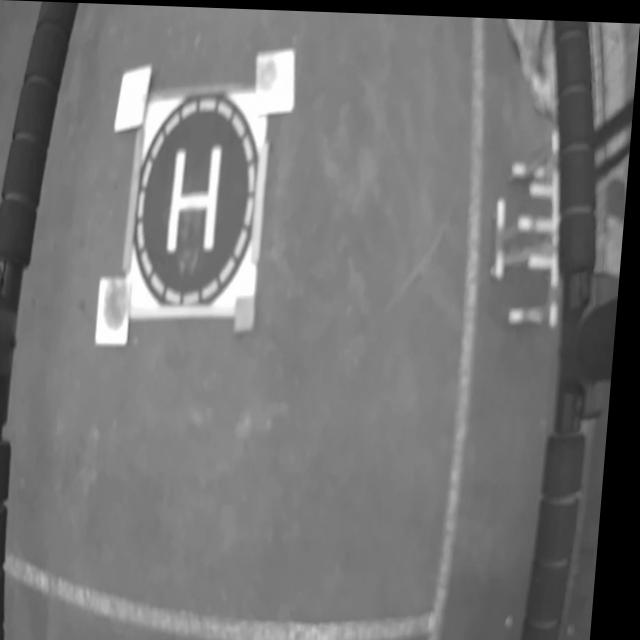Helipad: (170, 144, 226, 252)
